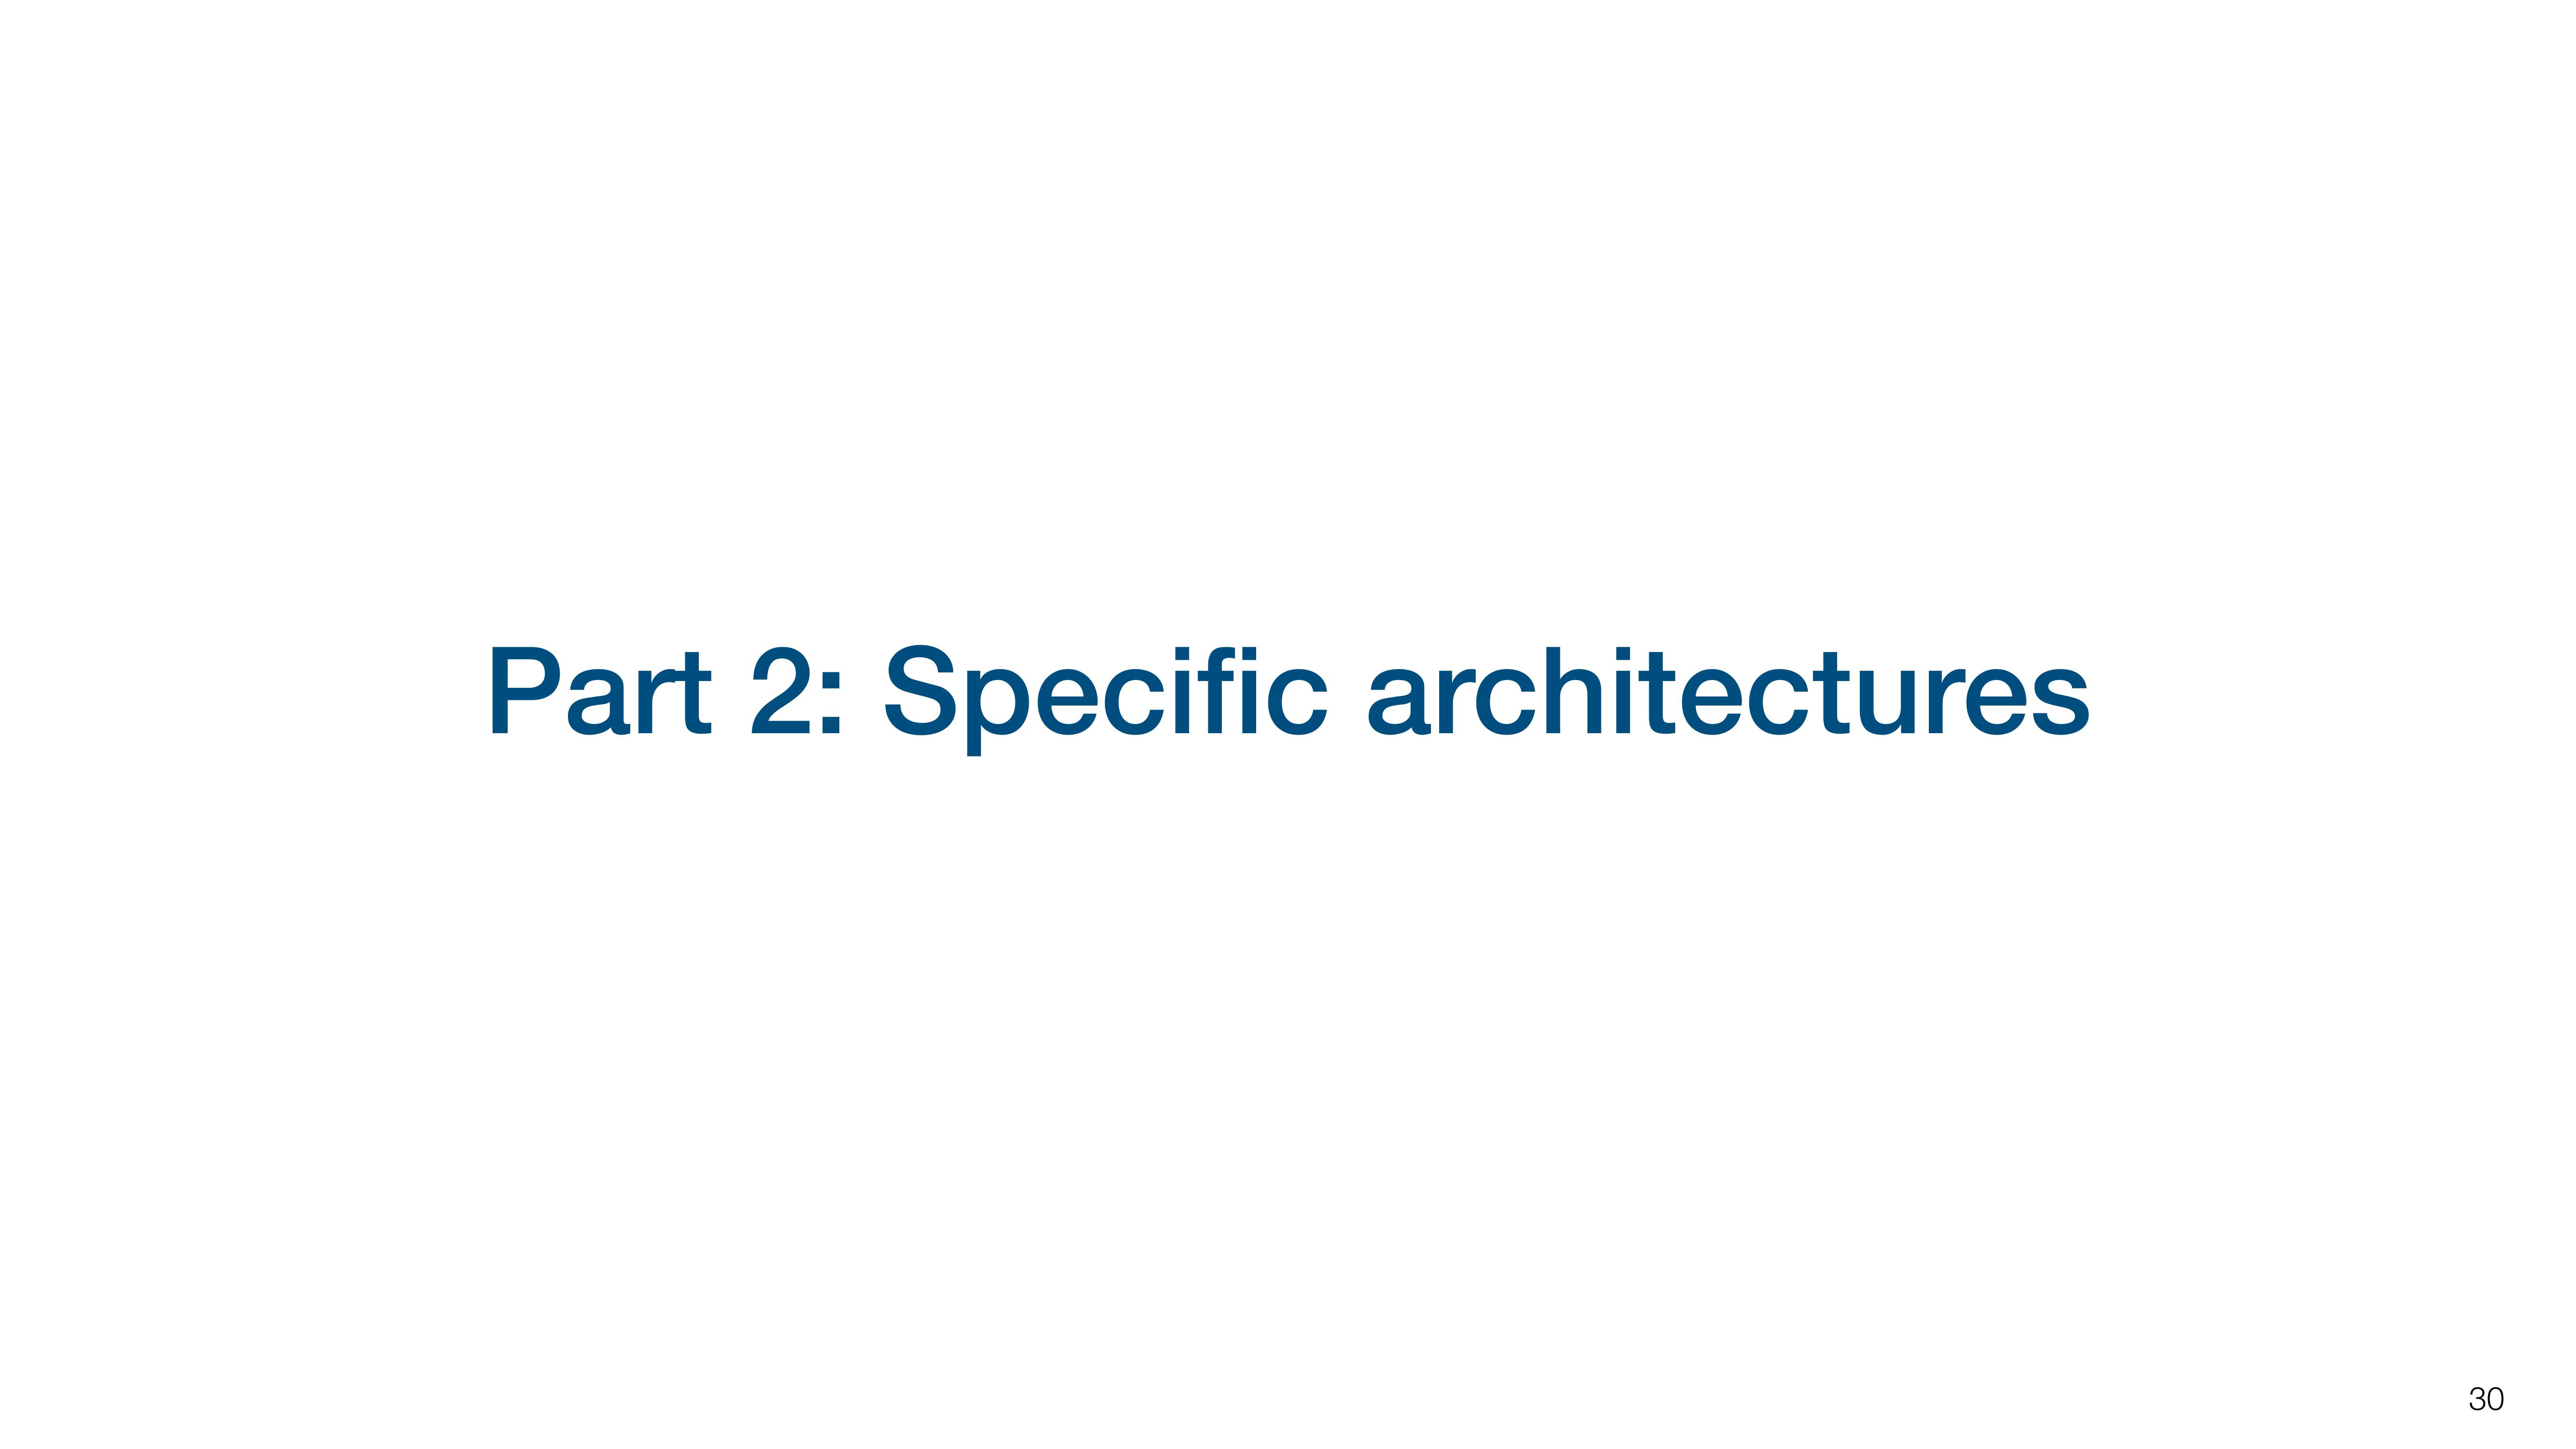Title: (472, 623, 2107, 778)
